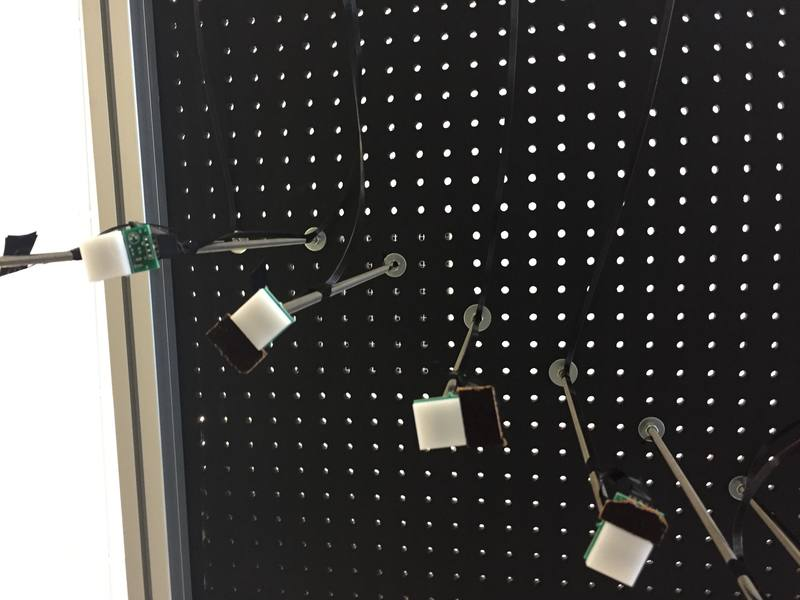target: (586, 521, 653, 587), (227, 289, 292, 352), (408, 391, 473, 451), (77, 233, 135, 285)
